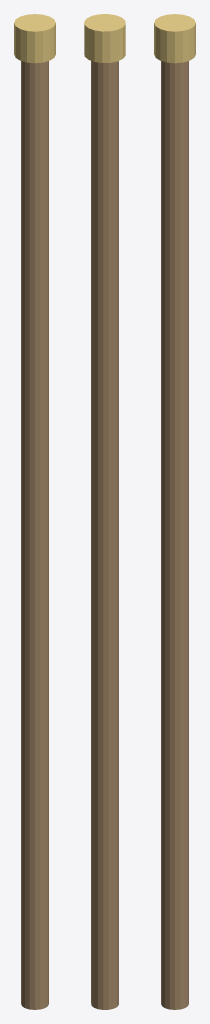
The model's file is stick.glb.
3 views of the same model, side by side, from view 1: azimuth 90°, elevation 25°; view 2: azimuth 150°, elevation 25°; view 3: azimuth 270°, elevation 25° (orthographic).
Parts seen in each view (by area): view 1: stick0, stick1; view 2: stick0, stick1; view 3: stick0, stick1.
Boxes of the visible parts, x1,y1,x2,y2 form: stick0: (21, 61, 48, 1009); stick1: (14, 14, 55, 63); stick0: (91, 61, 118, 1009); stick1: (84, 14, 125, 62); stick0: (161, 61, 188, 1009); stick1: (154, 14, 195, 63).
Size of the model in its own units: 0.024 by 0.62 by 0.024.
